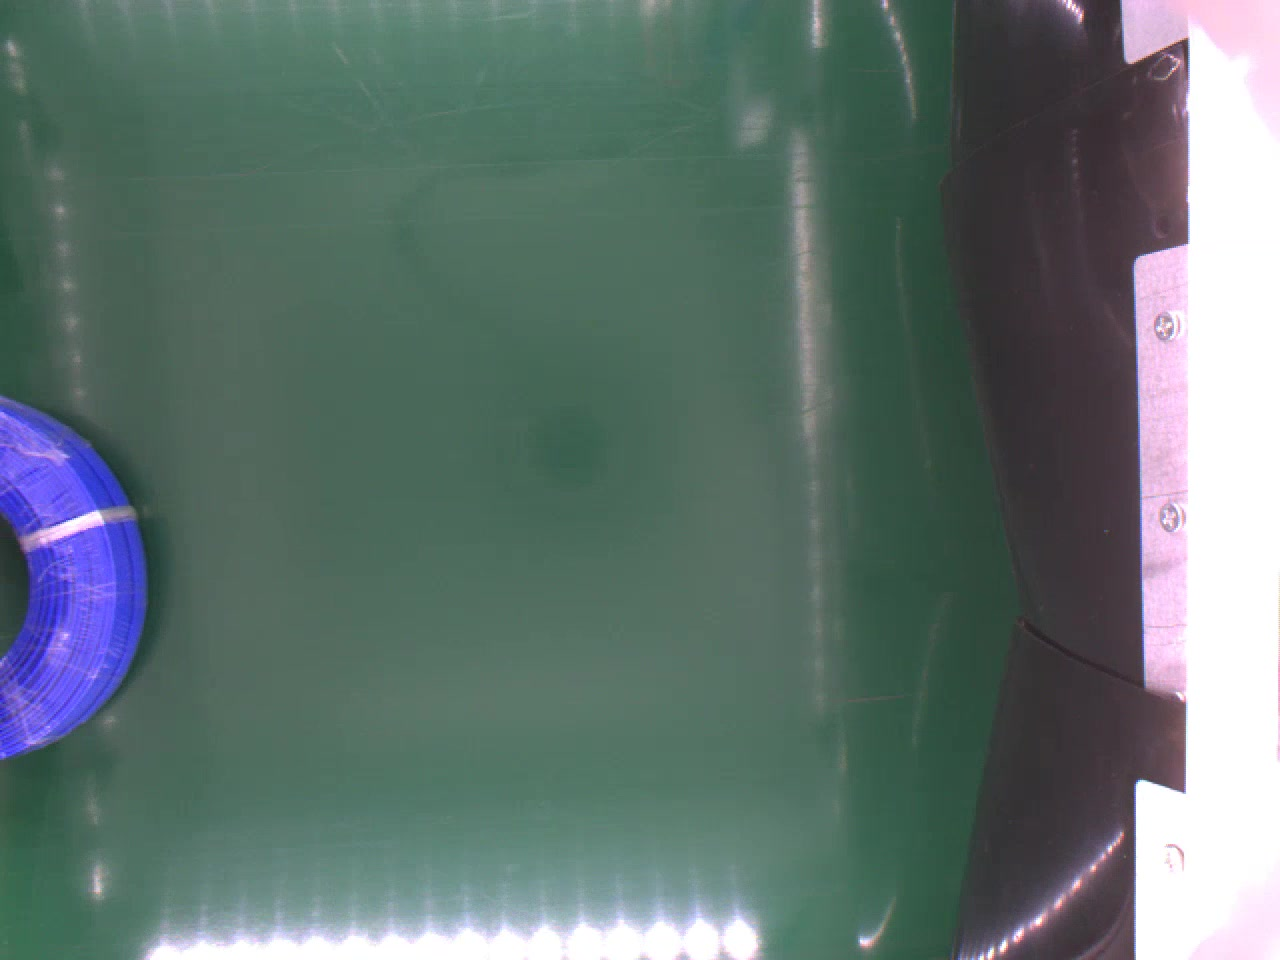blue: (0, 393, 146, 764)
